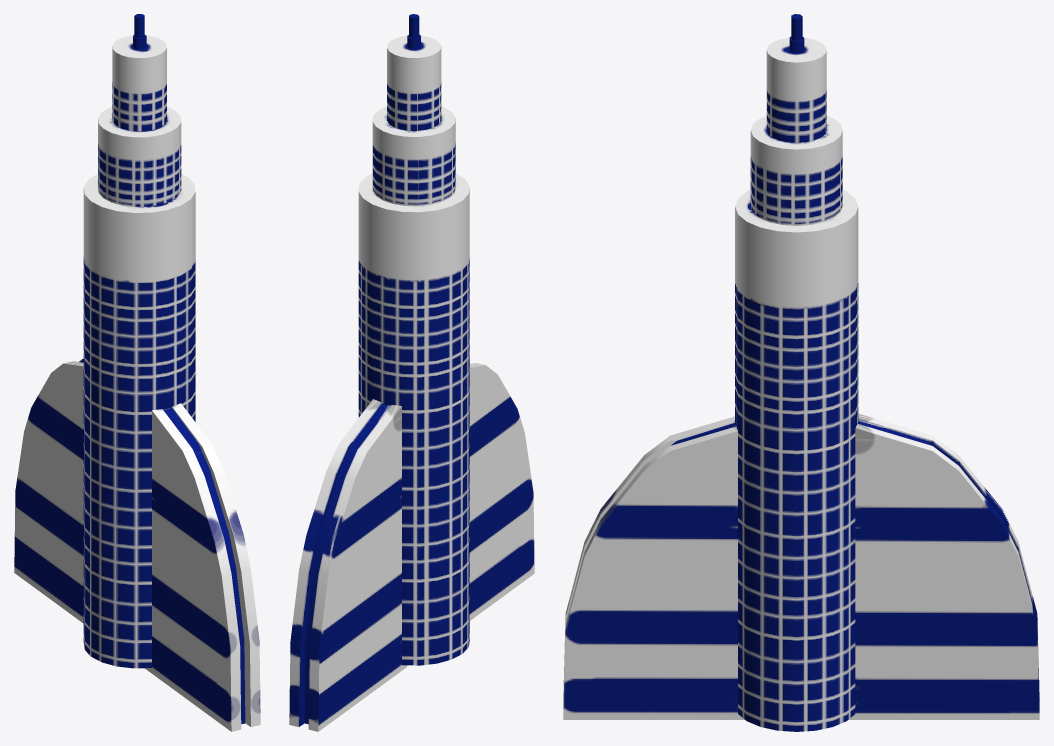
The model's file is future bill (1).fbx.
3 renders of one model, left to right at view 1: azimuth 30°, elevation 25°; view 2: azimuth 150°, elevation 25°; view 3: azimuth 270°, elevation 25°, orthographic. The views are drawn at different scales.
Parts seen in each view (by area): view 1: pCylinder8; view 2: pCylinder8; view 3: pCylinder8.
Part boxes in pixels (x1,y1,x2,y2): pCylinder8: (14,14,260,731); pCylinder8: (289,14,534,731); pCylinder8: (563,14,1039,731).
Bounding box in the file's own units: 3.3 × 20.57 × 12.77.
